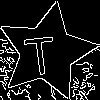T: (21, 27, 58, 76)
